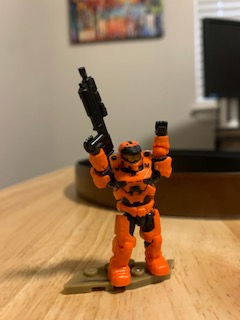rifle: (73, 64, 115, 156)
spartan: (79, 118, 173, 286)
up: (81, 120, 176, 205)
